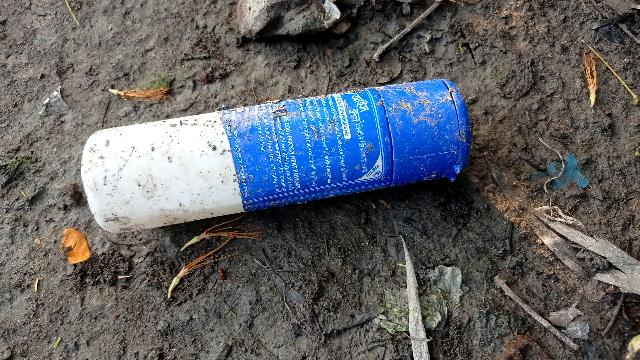hardplastic: (81, 74, 466, 237)
